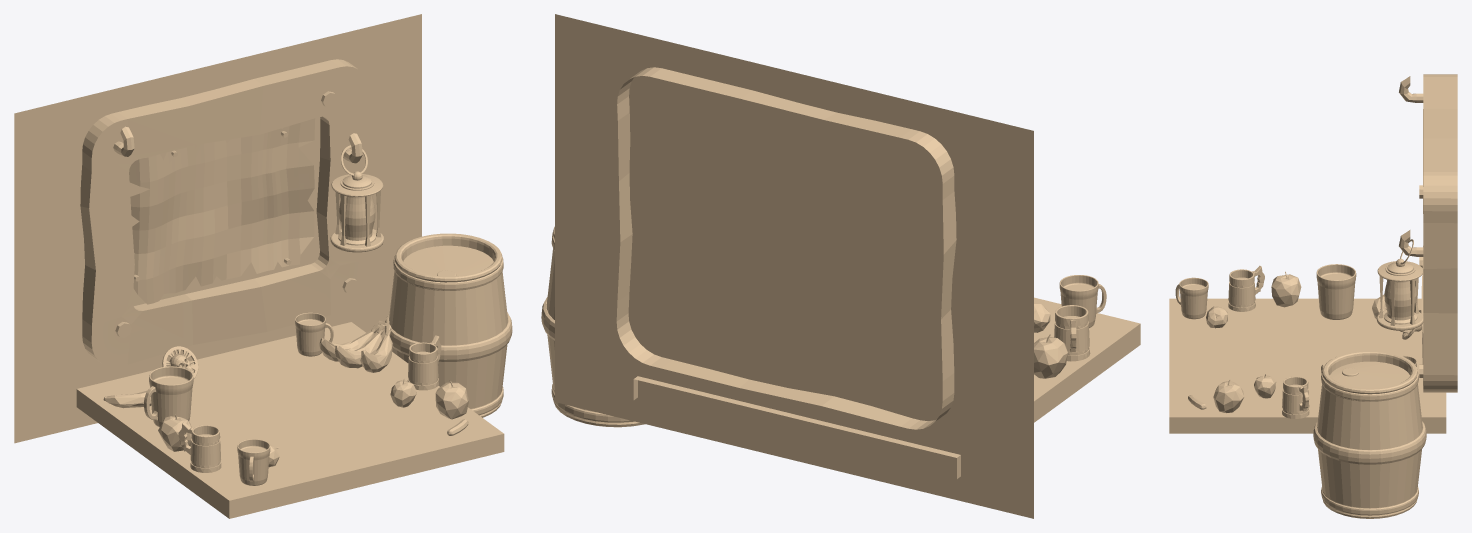
Rendered from PRV4SR_low.fbx.
The picture shows the model from 3 angles, left to right: view 1: azimuth 30°, elevation 25°; view 2: azimuth 150°, elevation 25°; view 3: azimuth 270°, elevation 25°; orthographic projection. The views are drawn at different scales.
Parts seen in each view (by area): view 1: Mesh_low; view 2: Mesh_low; view 3: Mesh_low.
Part boxes in pixels (bbox=[...]): Mesh_low: bbox=[14, 14, 512, 518]; Mesh_low: bbox=[541, 14, 1140, 518]; Mesh_low: bbox=[1169, 74, 1457, 518].
Bounding box in the file's own units: 1936 × 1460 × 1212.
